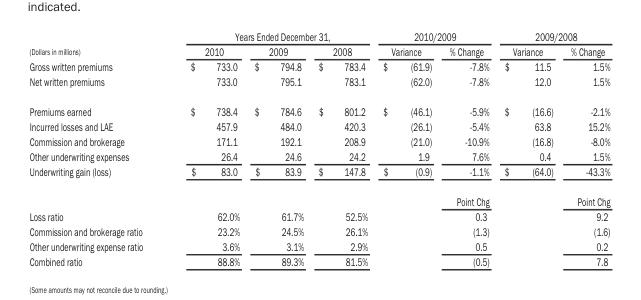table: (28, 29, 609, 268)
table column: (28, 29, 166, 268), (166, 29, 246, 268), (374, 29, 439, 268), (496, 29, 561, 268), (246, 29, 310, 268), (310, 29, 374, 268), (439, 29, 496, 268), (561, 29, 609, 268)
table column header: (28, 29, 609, 58)
table row: (28, 73, 609, 96), (28, 163, 609, 186), (28, 96, 609, 118), (28, 186, 609, 208), (28, 208, 609, 224), (28, 43, 609, 58), (28, 58, 609, 73), (28, 118, 609, 133), (28, 133, 609, 148), (28, 148, 609, 163), (28, 224, 609, 239), (28, 239, 609, 254), (28, 29, 609, 43), (28, 254, 609, 268)
table spanning cell: (28, 29, 166, 58), (166, 29, 374, 43), (374, 29, 496, 43), (496, 29, 609, 43)
